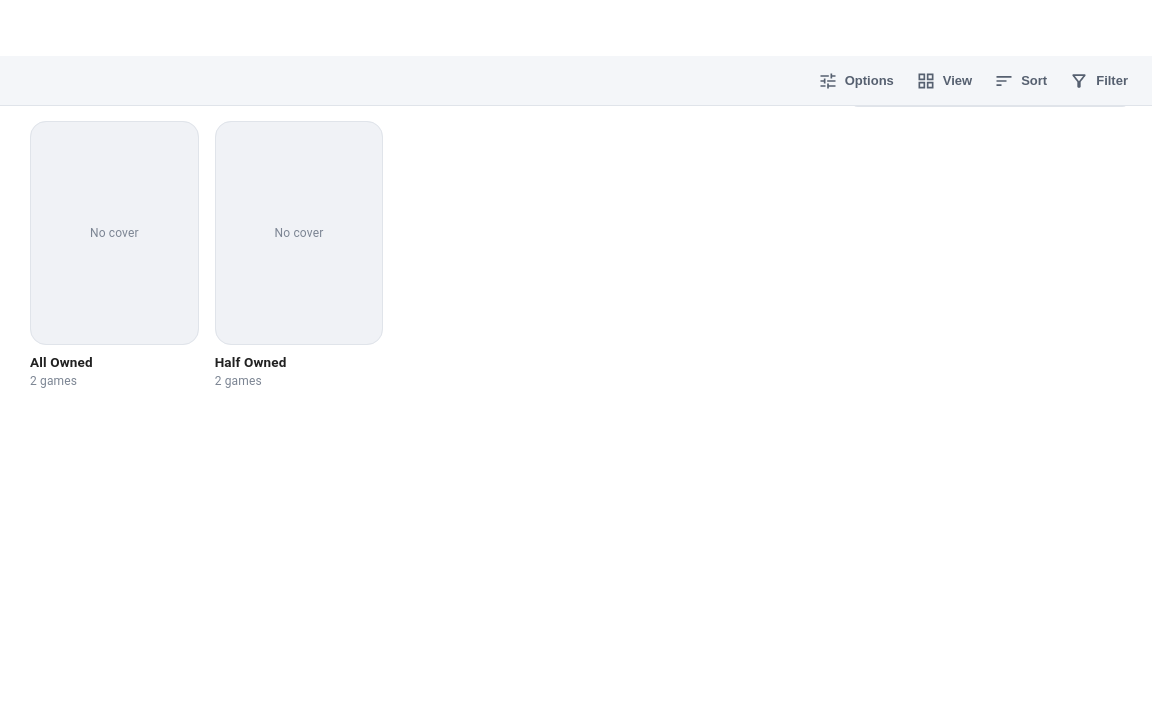
it: Collections/Series/Platforms Filter › keeps only the entries the chosen ownership matches
This screenshot has width=1152, height=720.
Click the button "View" at point(944, 80), box left=906, top=64, right=982, bottom=98
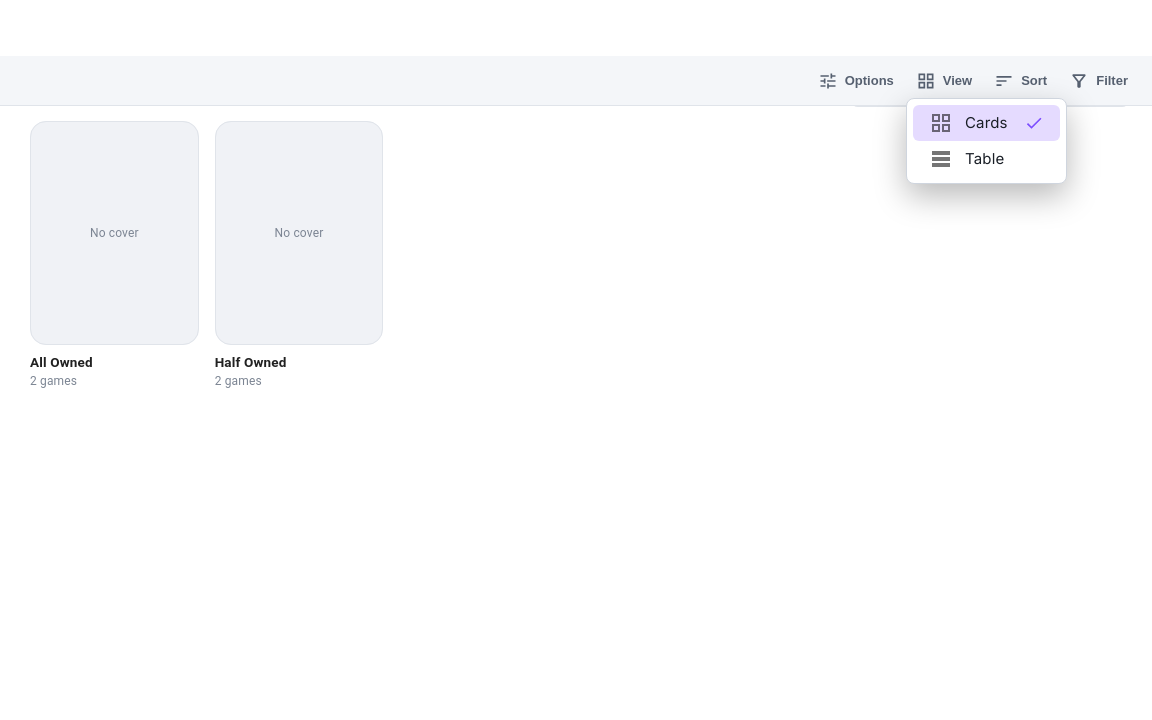
Click the menu item "Table" at point(967, 159), box left=929, top=147, right=1004, bottom=171
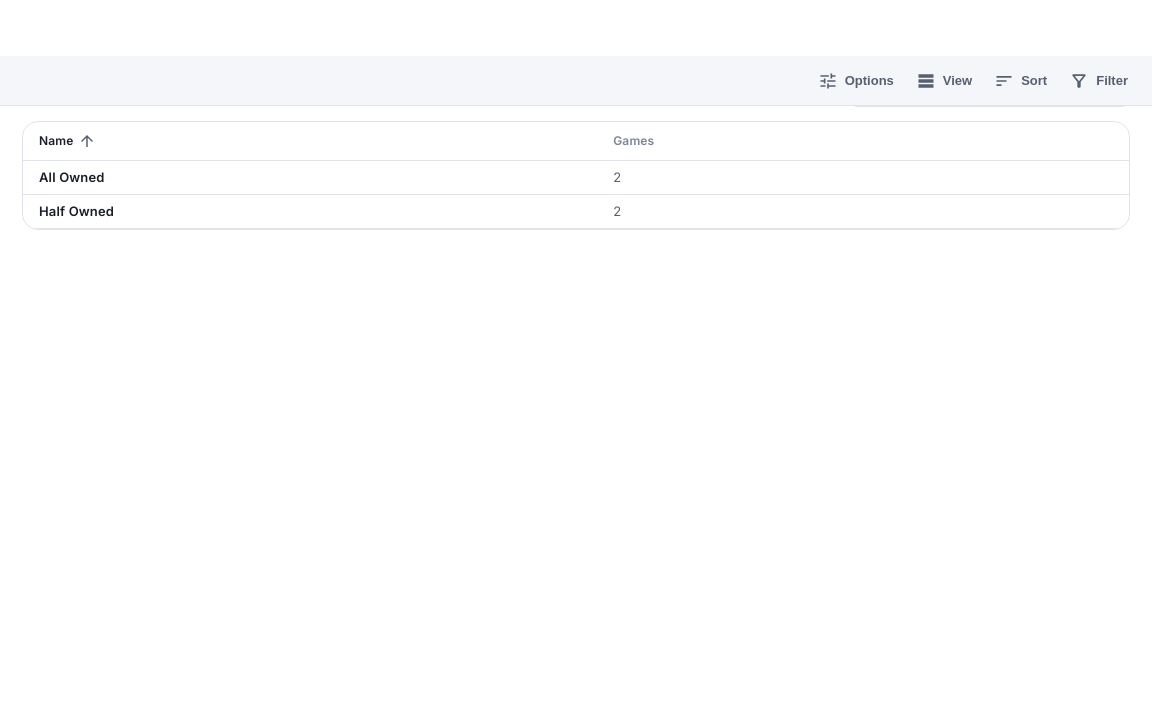
Click the button "Filter" at point(1099, 80), box left=1059, top=64, right=1138, bottom=98
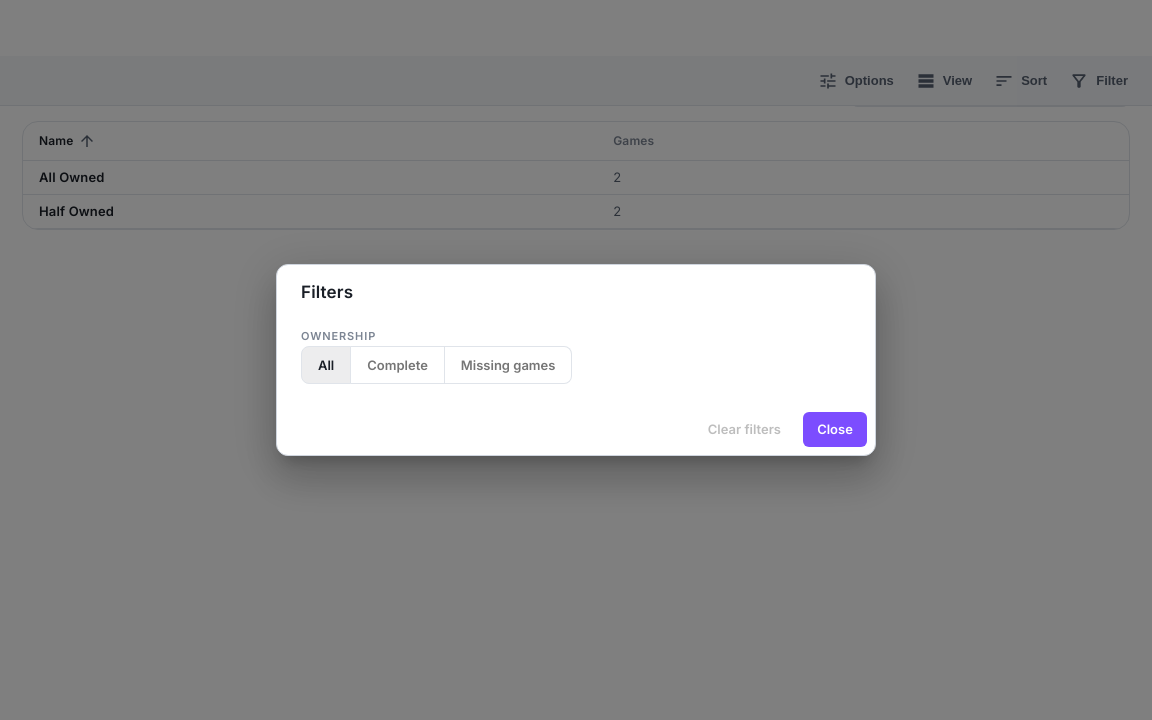
Click the button "Missing games" at point(508, 365), box left=444, top=346, right=572, bottom=384
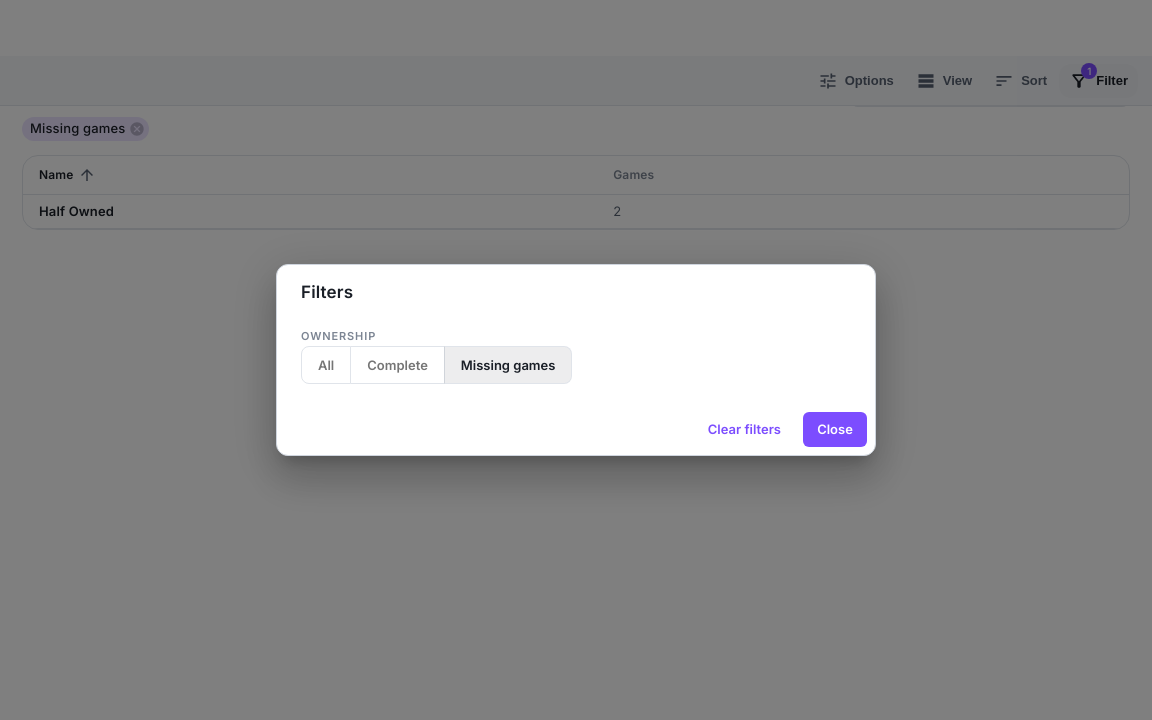
Click the button "Close" at point(835, 430), box left=803, top=412, right=867, bottom=447
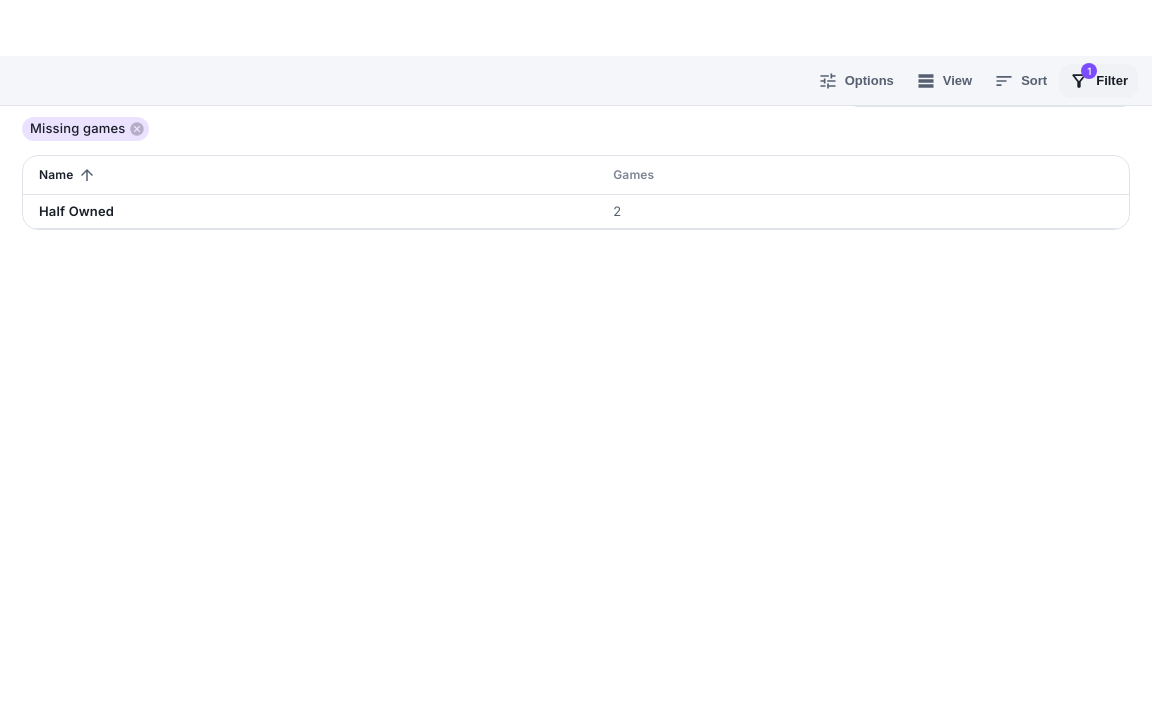
Expected: the text "Missing games" is shown, left=22, top=119, right=133, bottom=138
Expected: the dialog is gone
